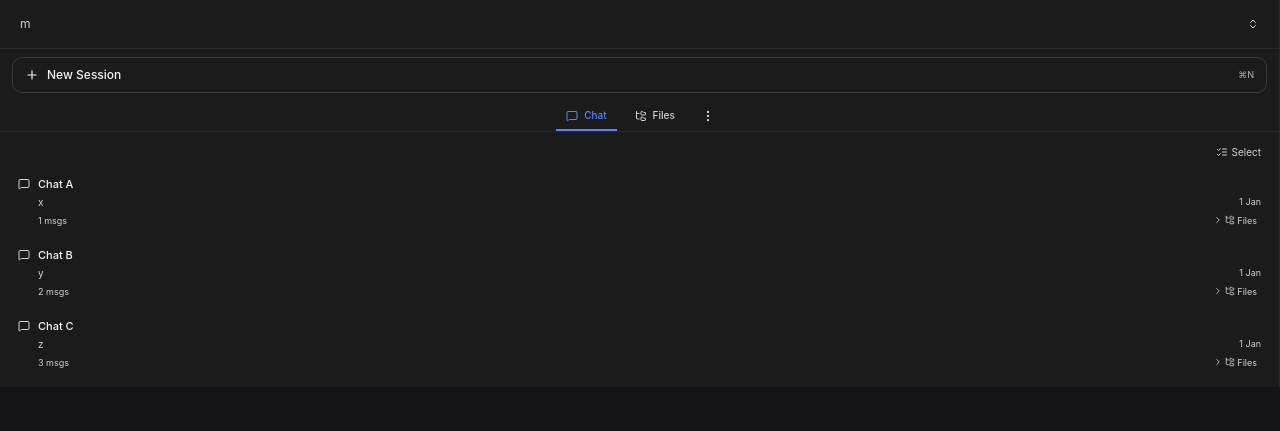
Test: LeftPanel multi-select › shows the empty state when a chat has no artifacts
Click the button with test id "session-files-toggle-a": (1235, 220) [1209,212,1261,229]
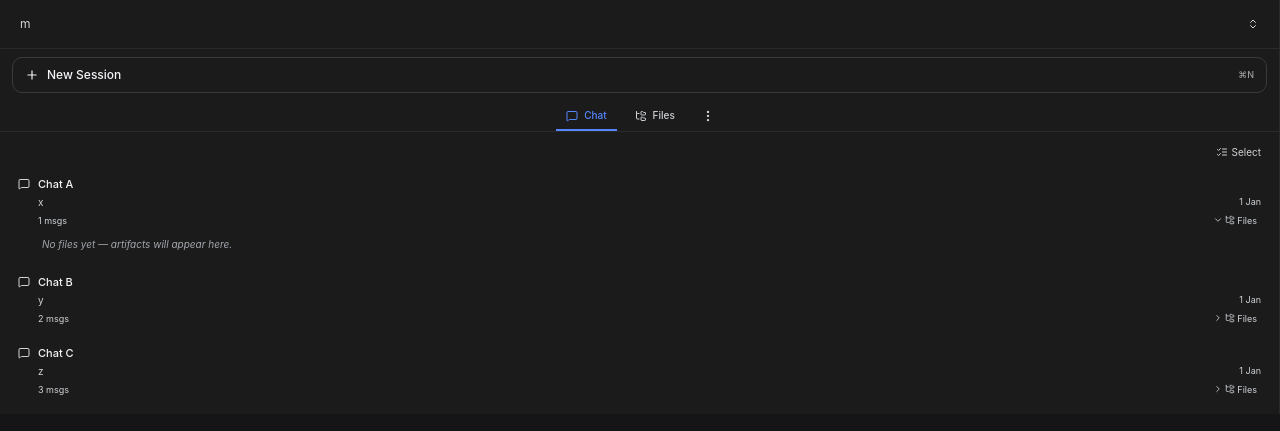
Expected: the text "No files yet — artifacts will appear here." is shown, [42,238,232,250]
